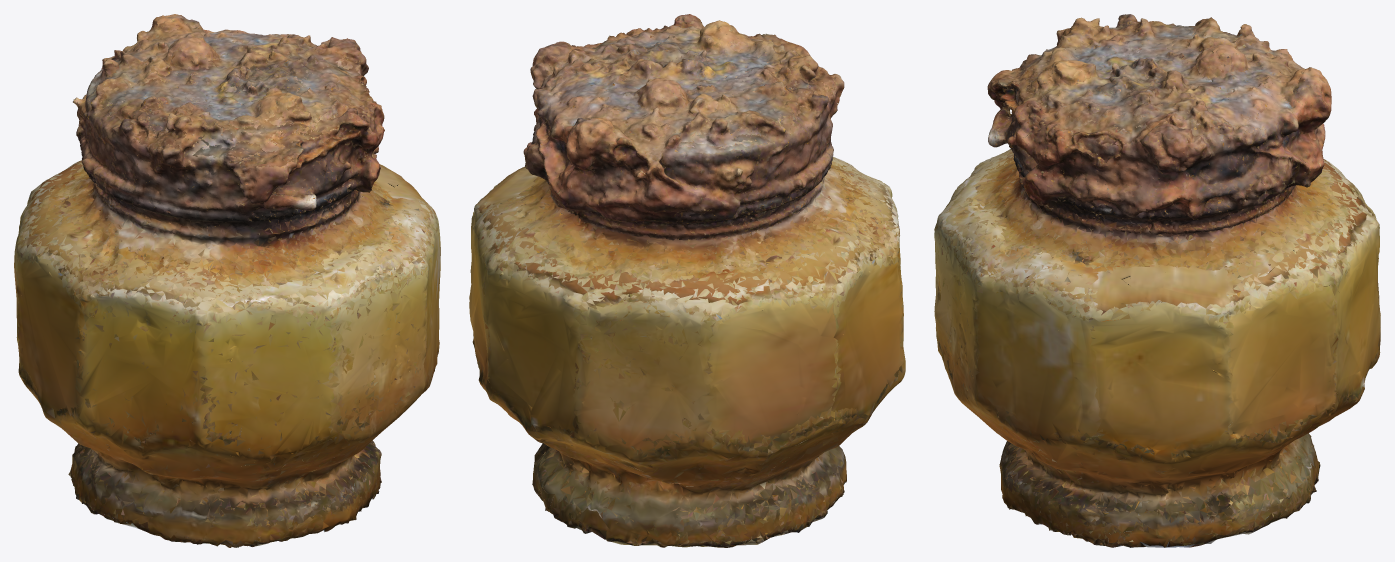
File: 84_hair_cream.glb
The picture shows the model from 3 angles, left to right: view 1: azimuth 30°, elevation 25°; view 2: azimuth 150°, elevation 25°; view 3: azimuth 270°, elevation 25°; orthographic projection. The views are drawn at different scales.
Visible parts, largest first — view 1: polySurface2; view 2: polySurface2; view 3: polySurface2.
Part boxes in pixels (<box>): polySurface2: <box>14,14,440,547</box>; polySurface2: <box>469,14,905,547</box>; polySurface2: <box>934,14,1380,547</box>.
Bounding box in the file's own units: 0.0148 × 0.0165 × 0.0153.
1 material, 1 textured.
